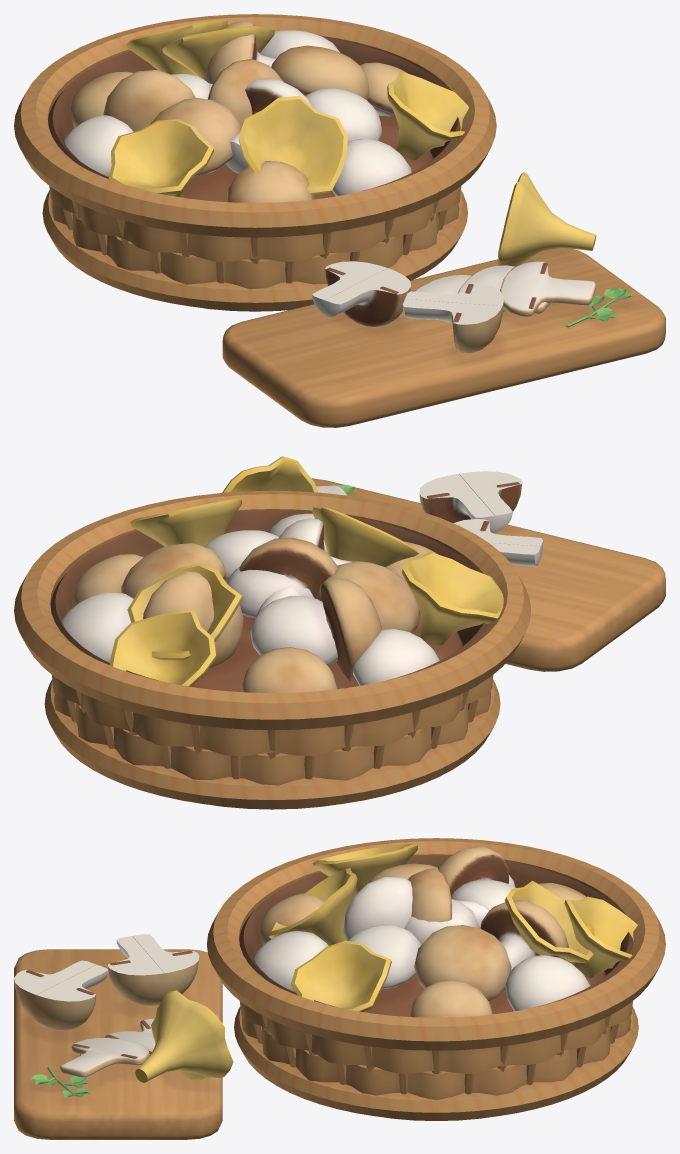
Rendered from grab3d-mushroom-food.glb.
The picture shows the model from 3 angles, top to bottom: view 1: azimuth 30°, elevation 25°; view 2: azimuth 150°, elevation 25°; view 3: azimuth 270°, elevation 25°; orthographic projection. The views are drawn at different scales.
Parts seen in each view (by area): view 1: mushroom-food_body; view 2: mushroom-food_body; view 3: mushroom-food_body.
Boxes of the visible parts, x1,y1,x2,y2 form: mushroom-food_body: (14,14,665,427); mushroom-food_body: (14,456,665,809); mushroom-food_body: (14,838,665,1139).
Size of the model in its own units: 0.231 by 0.0939 by 0.328.
Materials: 1 (1 with a texture image).
